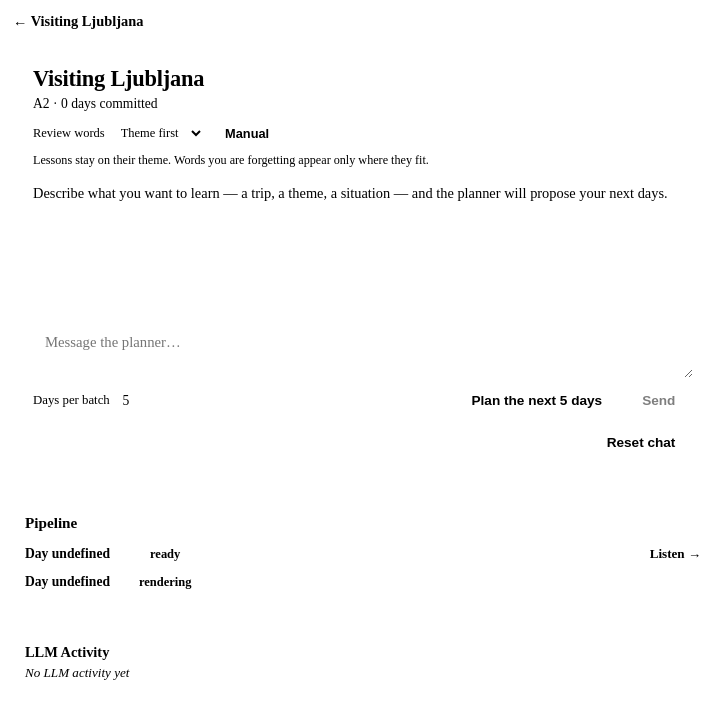
Test: /c/[curriculumId]/plan page › reset chat › API failure surfaces the error and reverts the button
Step 1. Click the button "Reset chat" → {"x": 641, "y": 443}, box x1=589 y1=427 x2=693 y2=458
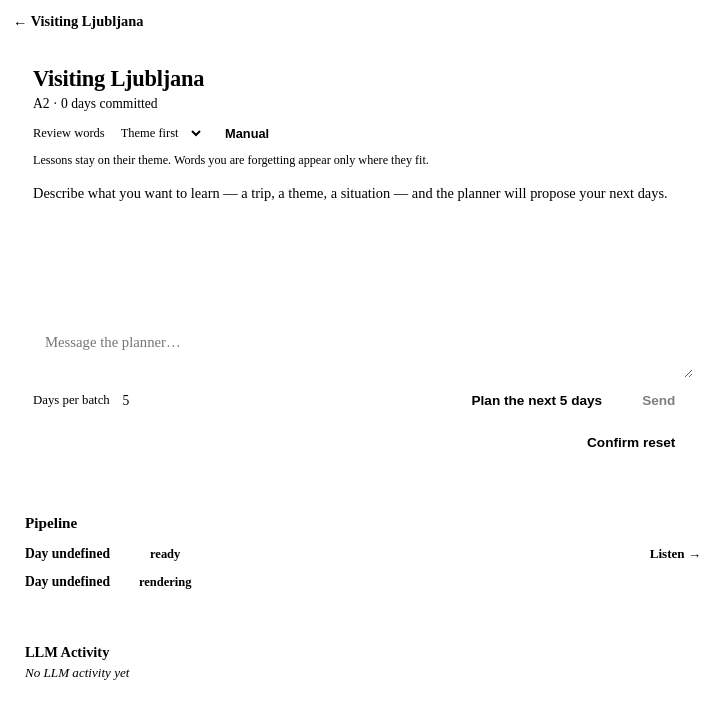
Step 2. Click the button "Confirm reset" → {"x": 631, "y": 443}, box x1=569 y1=427 x2=693 y2=458
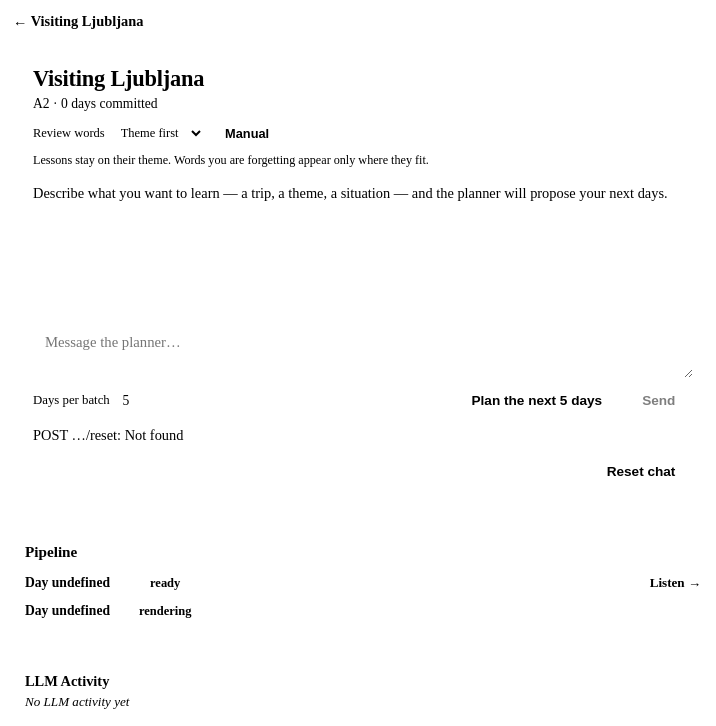
Check: the text "POST …/reset: Not found" is shown, box x1=33 y1=427 x2=183 y2=443
Check: the button "Reset chat" is shown, box x1=589 y1=456 x2=693 y2=487
